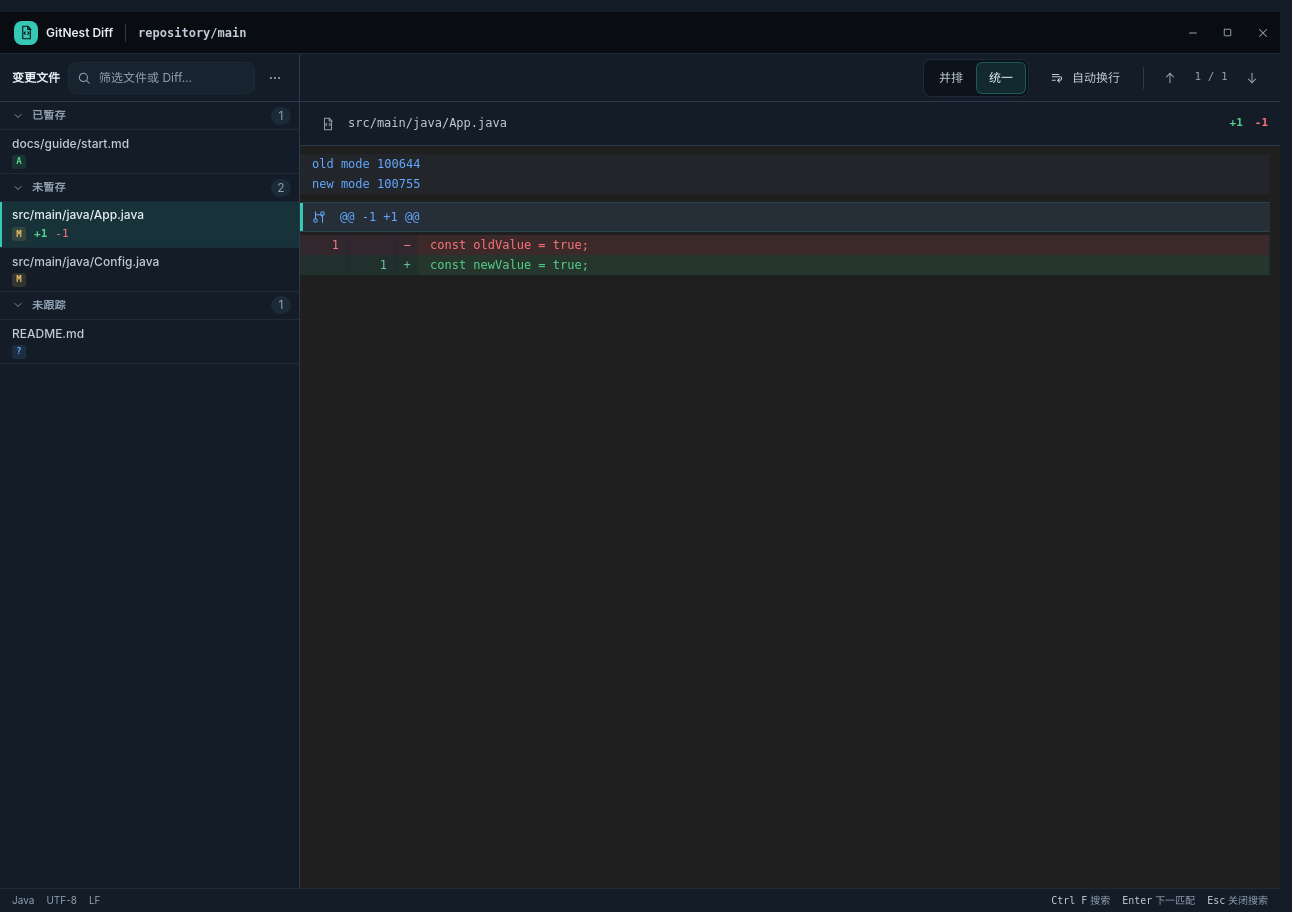
Test: DiffViewerApp › keeps the selected diff visible when a background refresh fails
The image size is (1292, 912).
Step 1. Click the button titled "变更文件视图" → (275, 78), box [259, 62, 291, 94]
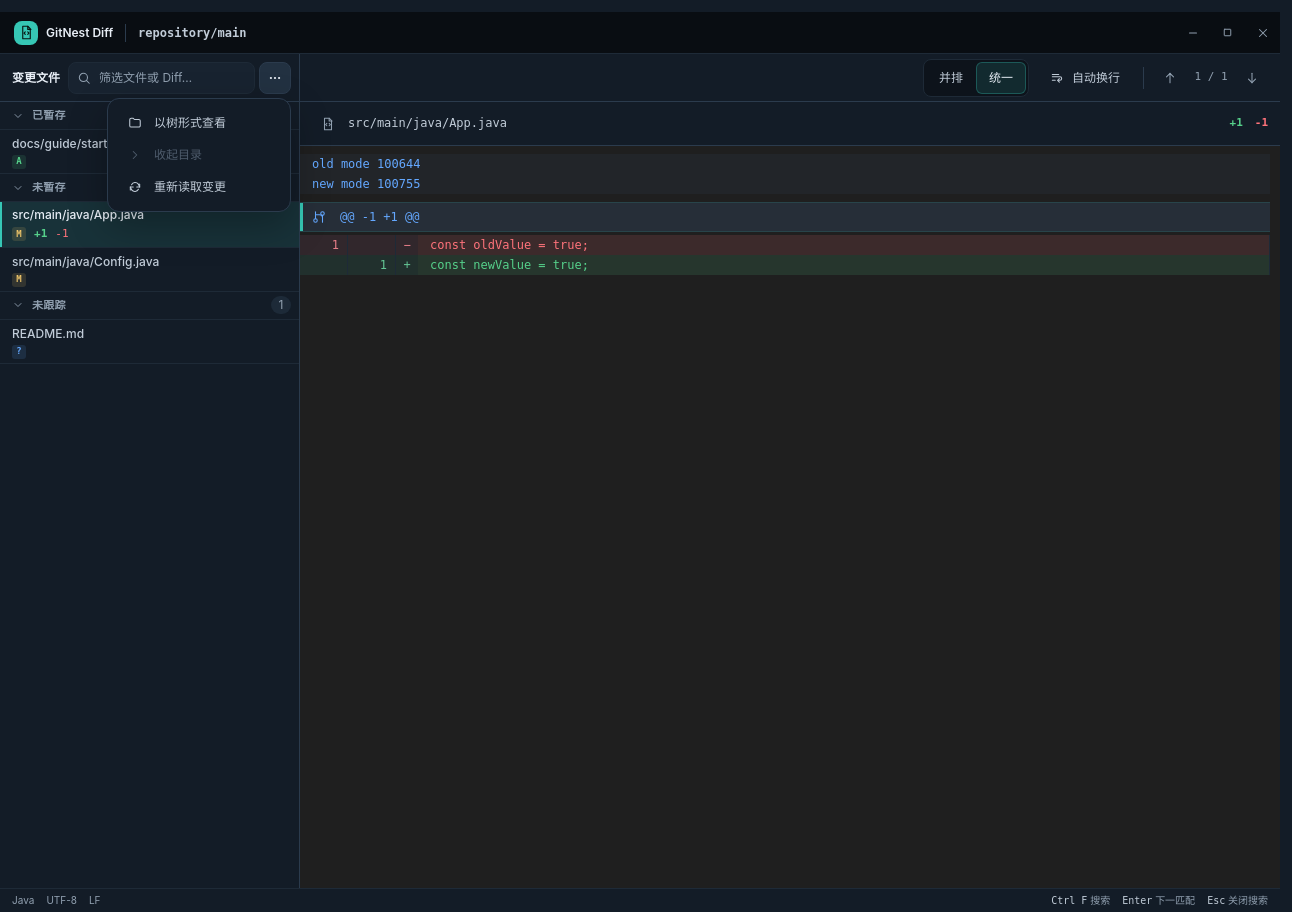
Step 2. Click the menu item "重新读取变更" → (199, 186), box [116, 170, 282, 202]
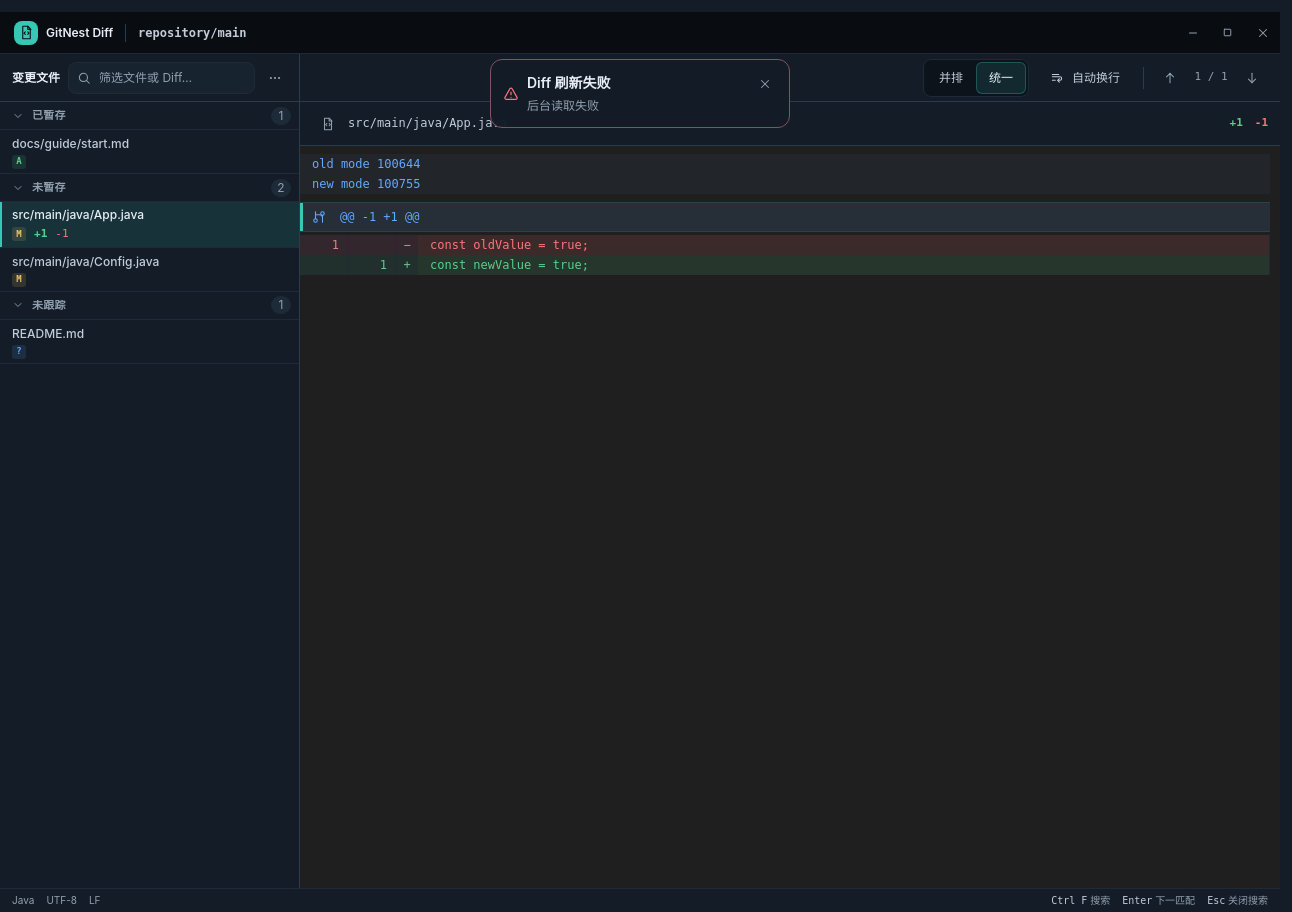
Expected: the text "const newValue = true;" is shown, [430, 258, 589, 272]
Now the text "后台读取失败" is shown, box [527, 98, 599, 113]
